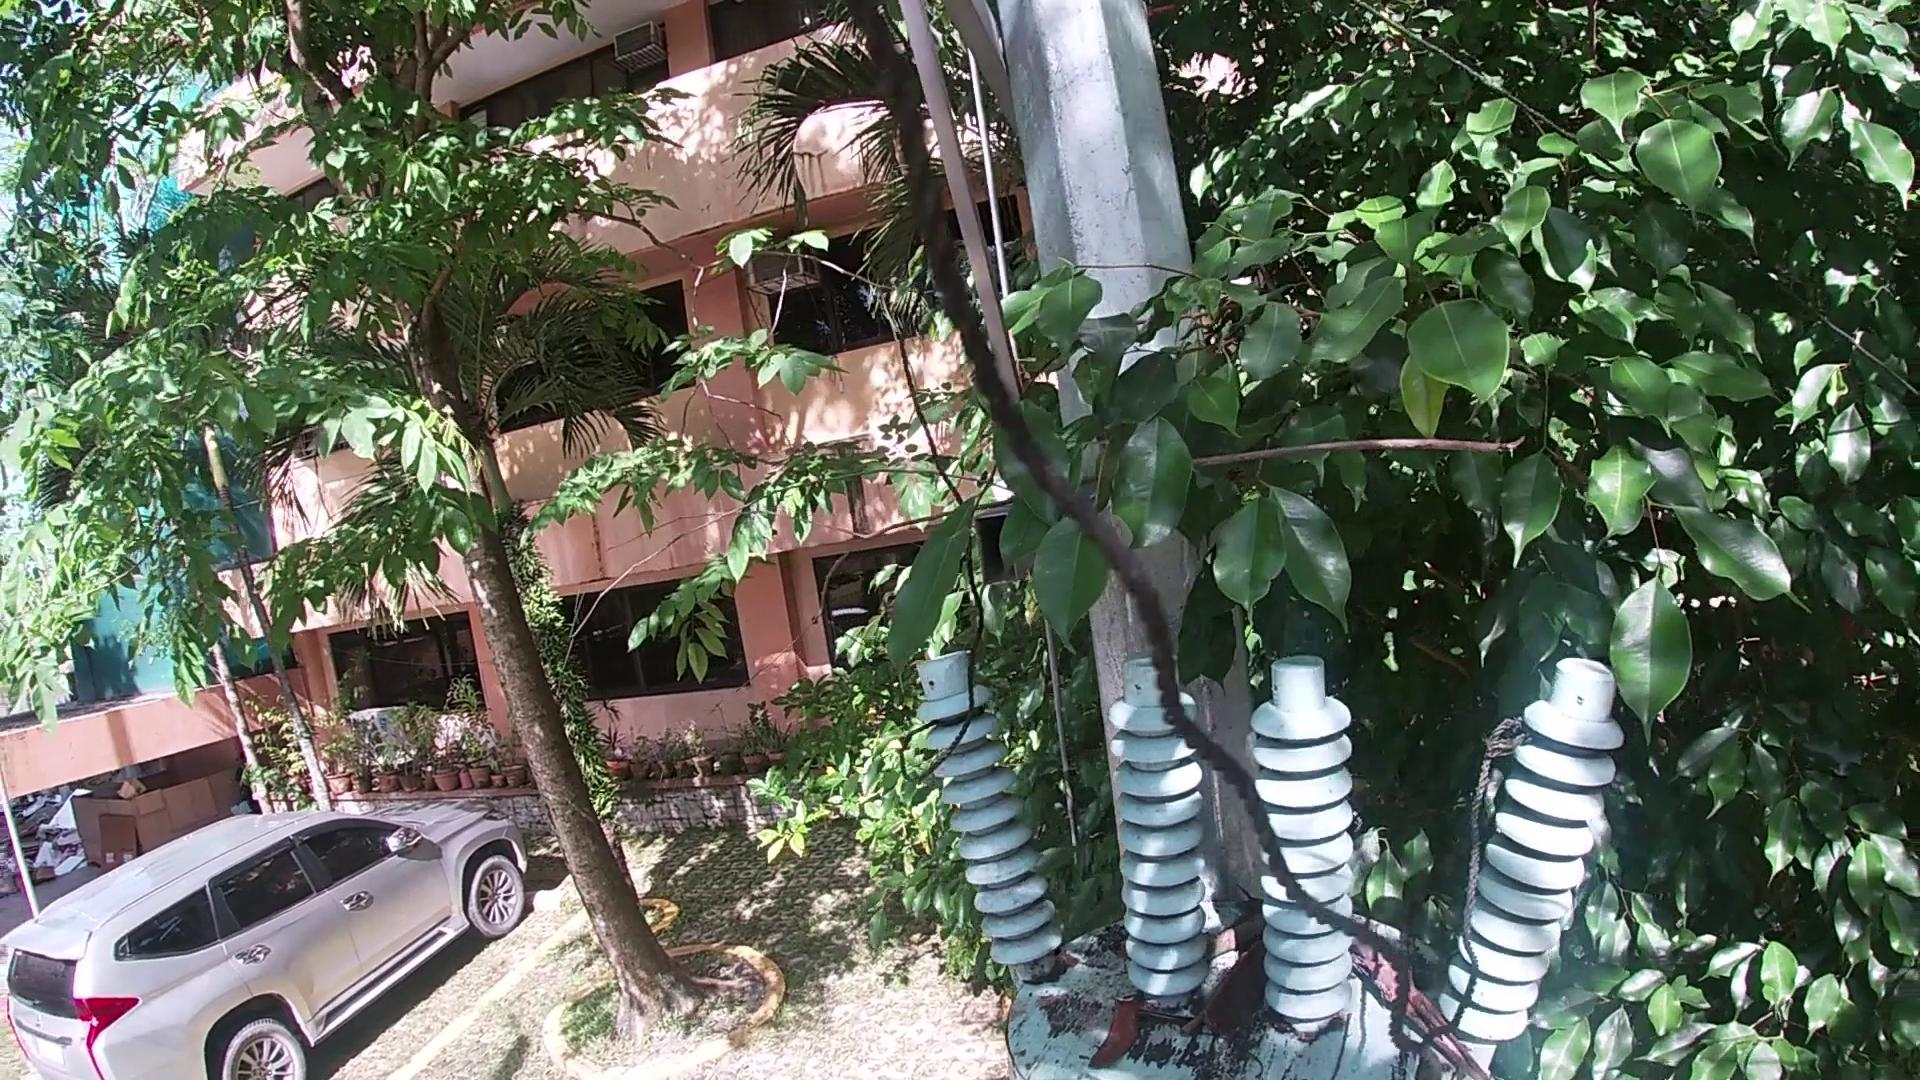mahogany fruit: (1205, 942, 1280, 1040), (1092, 986, 1145, 1071)
tree branch: (521, 406, 1578, 745), (1350, 942, 1519, 1075), (1204, 922, 1273, 963), (1182, 1015, 1197, 1036)
